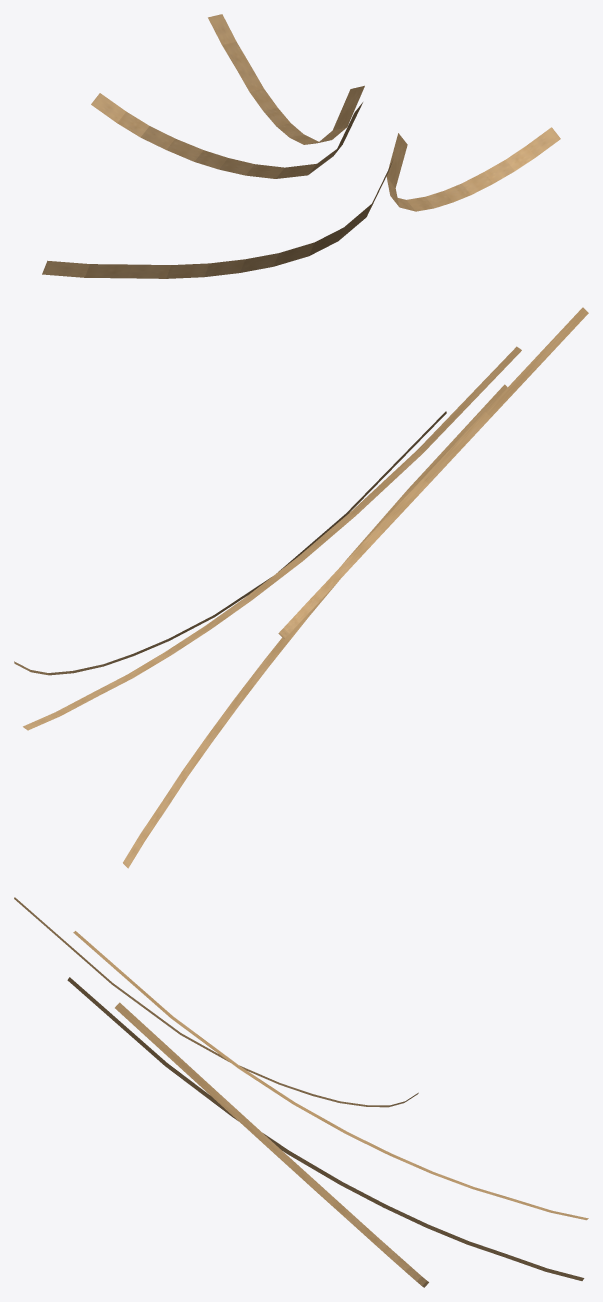
3 views of the same model, one above another, from view 1: azimuth 30°, elevation 25°; view 2: azimuth 150°, elevation 25°; view 3: azimuth 270°, elevation 25° (orthographic). The views are drawn at different scales.
Visible parts, largest first — view 1: mesh00; view 2: mesh00; view 3: mesh00.
Part boxes in pixels (x1,y1,x2,y2): mesh00: (42, 14, 560, 278); mesh00: (14, 307, 588, 868); mesh00: (14, 897, 588, 1287).
Size of the model in its own units: 14129 by 14200 by 22811.
